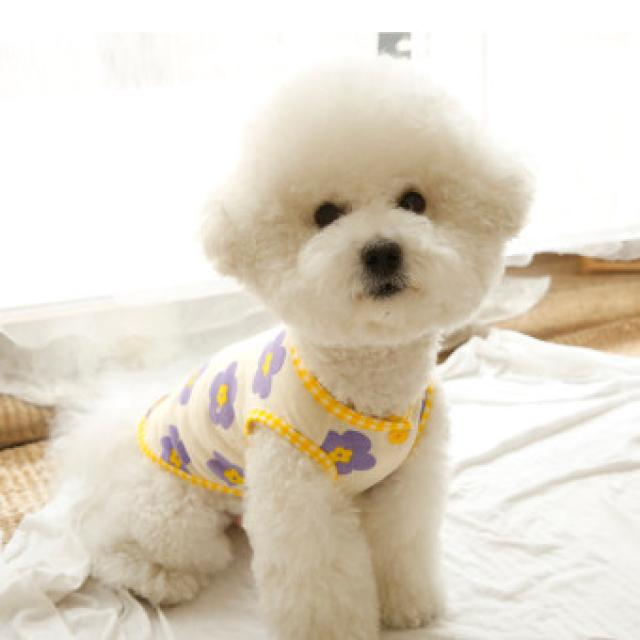cloth: (138, 328, 436, 496)
